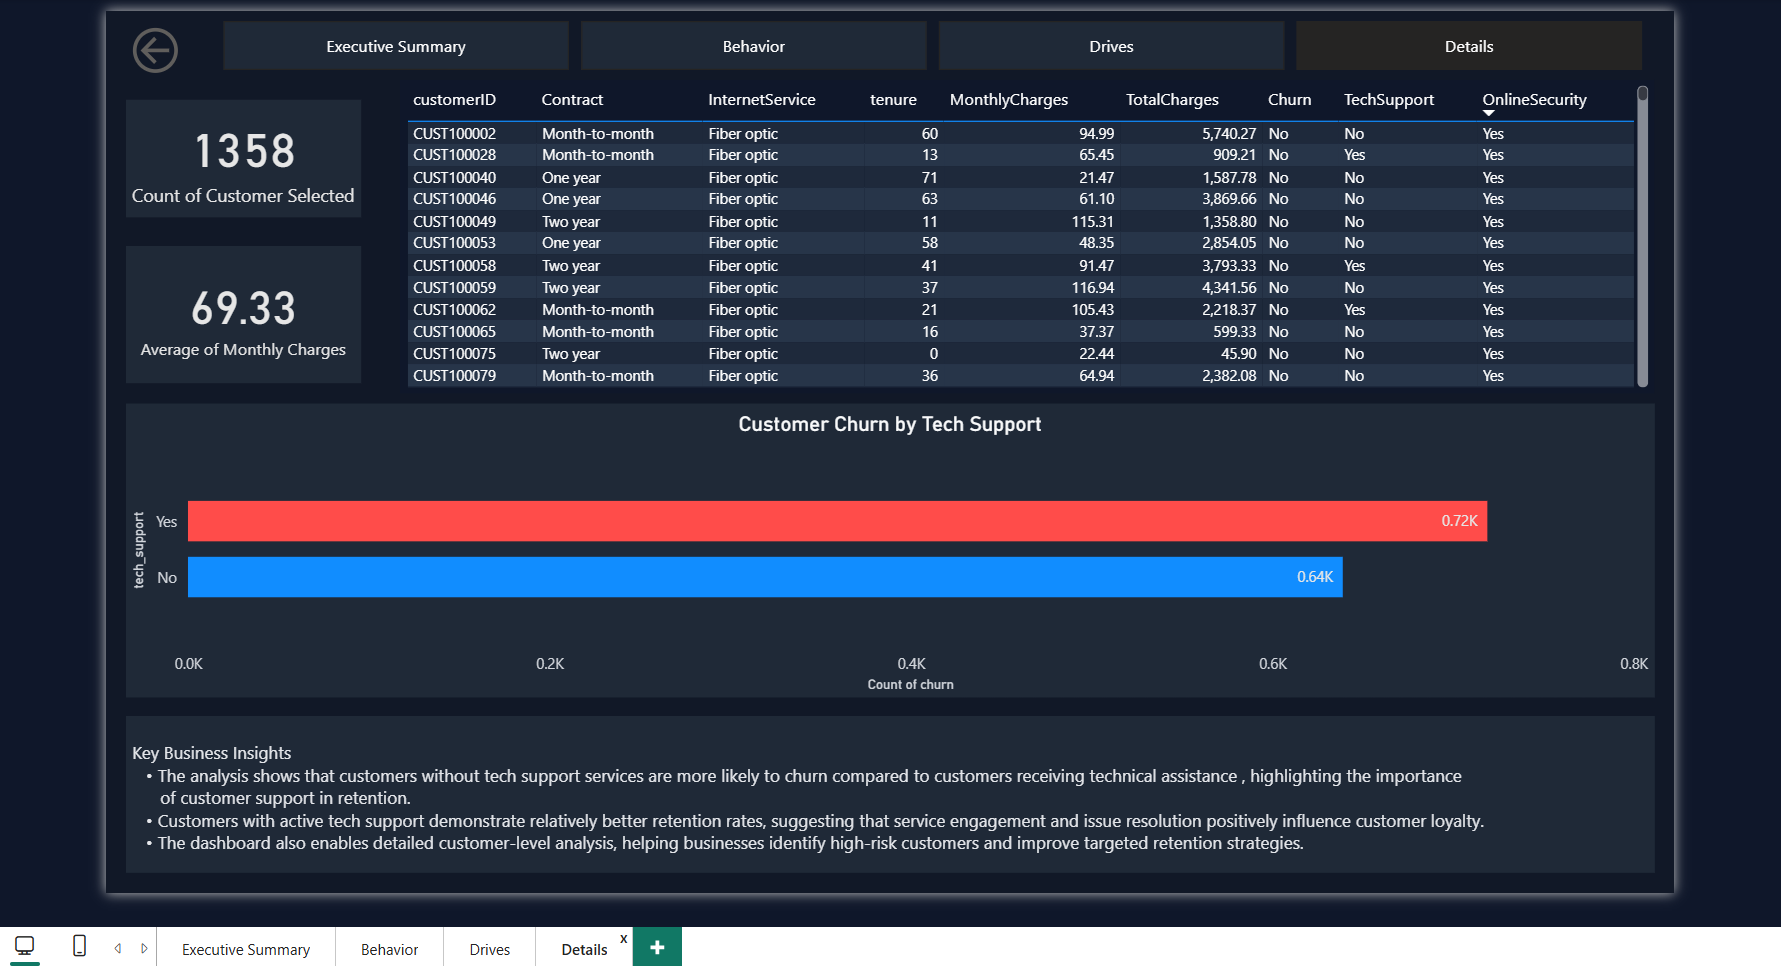

This screenshot's page, from the dashboard's own definition file:
{"tool":"powerbi","page":{"name":"Details ","canvas":[1280,720],"ordinal":3},"visuals":[{"type":"tableEx","fields":{"Values":["churn_project customers.customerID","churn_project customers.Contract","churn_project customers.InternetService","churn_project customers.tenure","churn_project customers.MonthlyCharges","churn_project customers.TotalCharges","churn_project customers.Churn","churn_project customers.TechSupport","churn_project customers.OnlineSecurity"]},"box":[240,56,1024,256],"z":0},{"type":"card","fields":{"Values":["CountNonNull(churn_project fact_churn.Customer Selected)"]},"box":[16,72,192,96],"z":1000},{"type":"card","fields":{"Values":["Avg(churn_project fact_churn.monthly_charges)"]},"box":[16,192,192,112],"z":2000},{"type":"barChart","title":"Customer Churn by Tech Support","fields":{"Series":["churn_project dim_services.tech_support"],"Y":["CountNonNull(churn_project fact_churn.churn)"],"Category":["churn_project dim_services.tech_support"]},"box":[16,320,1248,240],"z":3000},{"type":"textbox","box":[16,576,1248,128],"z":4000},{"type":"actionButton","box":[16,8,64,48],"z":5000},{"type":"pageNavigator","box":[96,8,1160,40],"z":6000}]}

Visuals, with their boxes on the page's 1280x720 design canvas (x1, y1, x2, y2). These are canvas units, not pixel positions in the 1781x966 screenshot, which may show the page scaled, cropped or inside an application window:
tableEx - churn_project customers.customerID x churn_project customers.Contract: 240 56 1264 312
card - CountNonNull(churn_project fact_churn.Customer Selected): 16 72 208 168
card - Avg(churn_project fact_churn.monthly_charges): 16 192 208 304
"Customer Churn by Tech Support" barChart: 16 320 1264 560
textbox: 16 576 1264 704
actionButton: 16 8 80 56
pageNavigator: 96 8 1256 48
